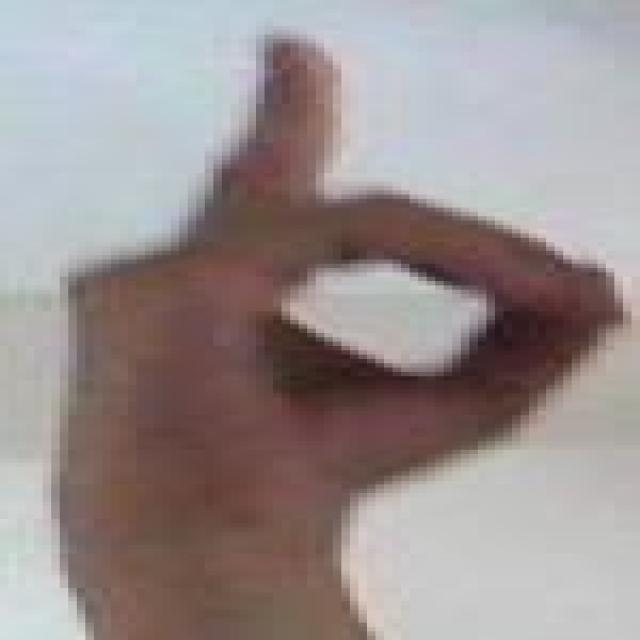D1: (0, 0, 640, 525)
